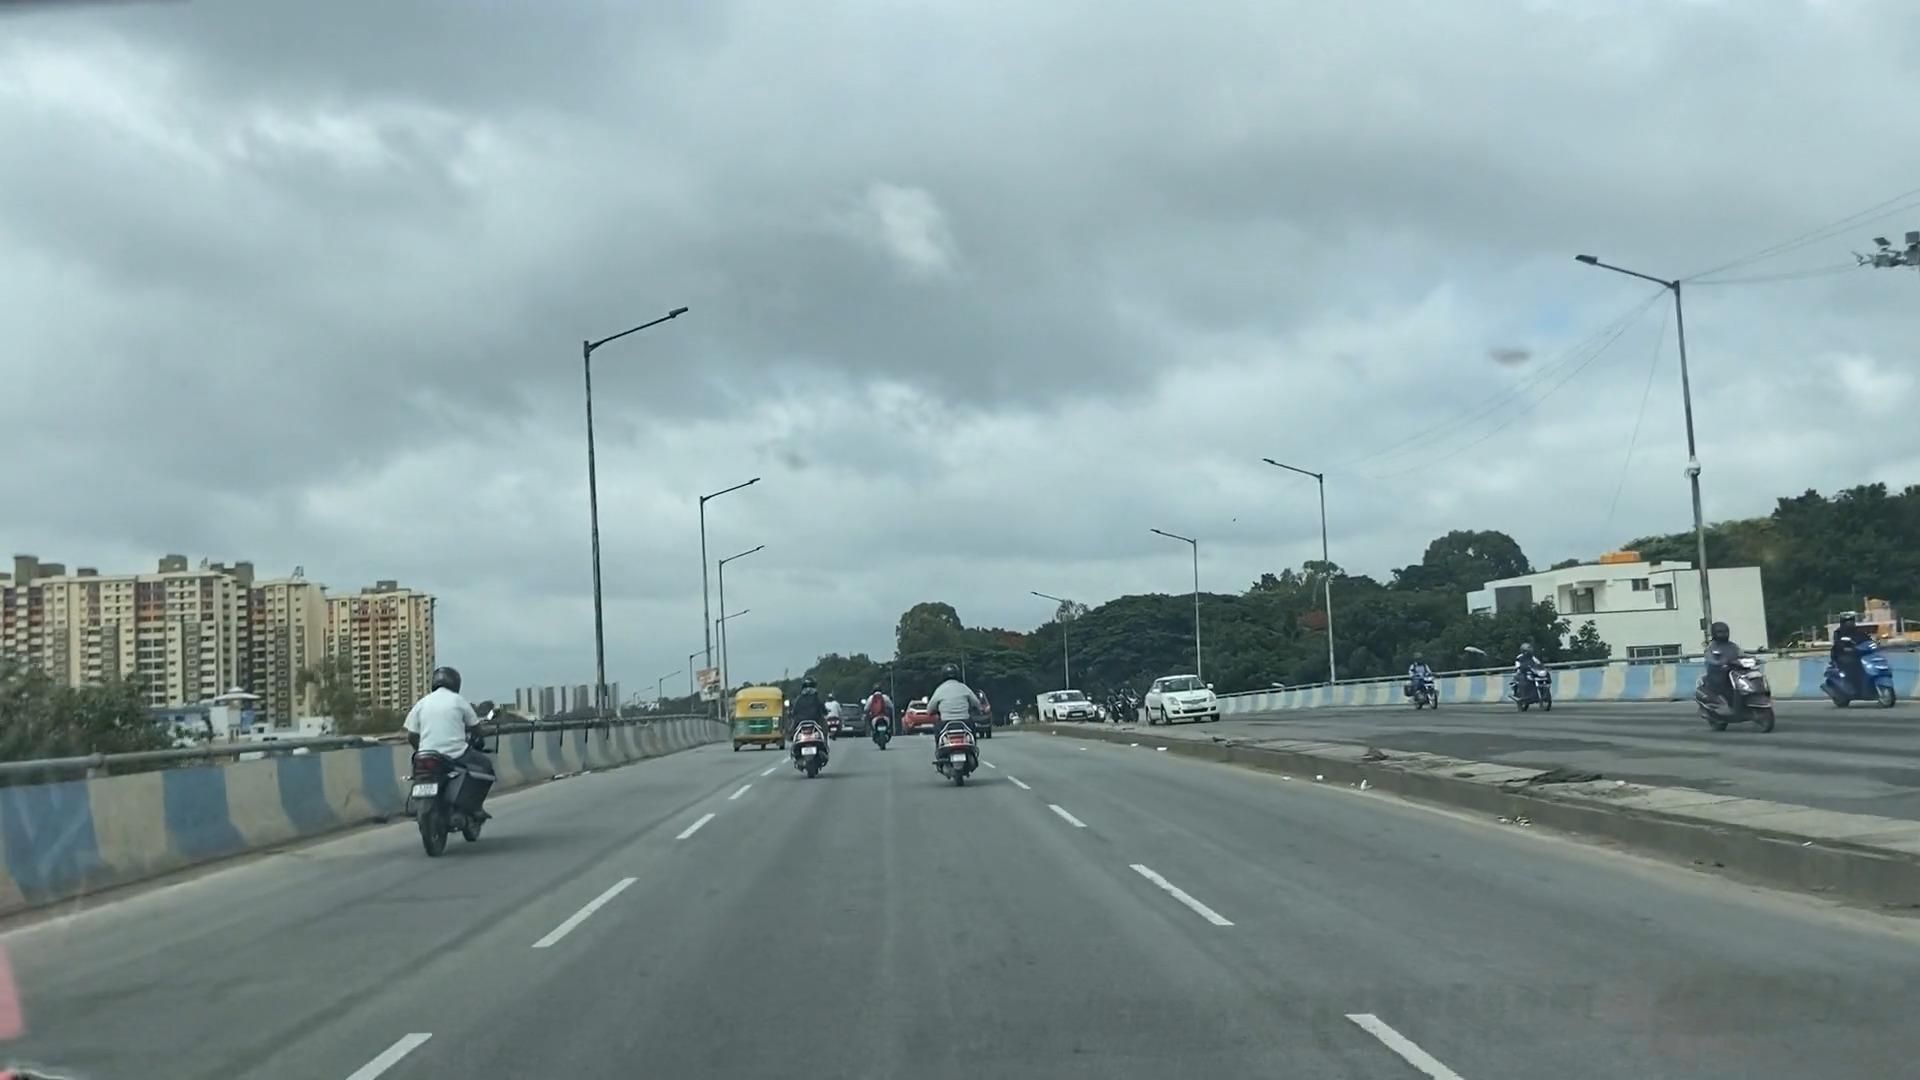LMV: (421, 669, 492, 856), (936, 673, 975, 789), (731, 684, 779, 741), (798, 686, 825, 774), (870, 686, 895, 745)
